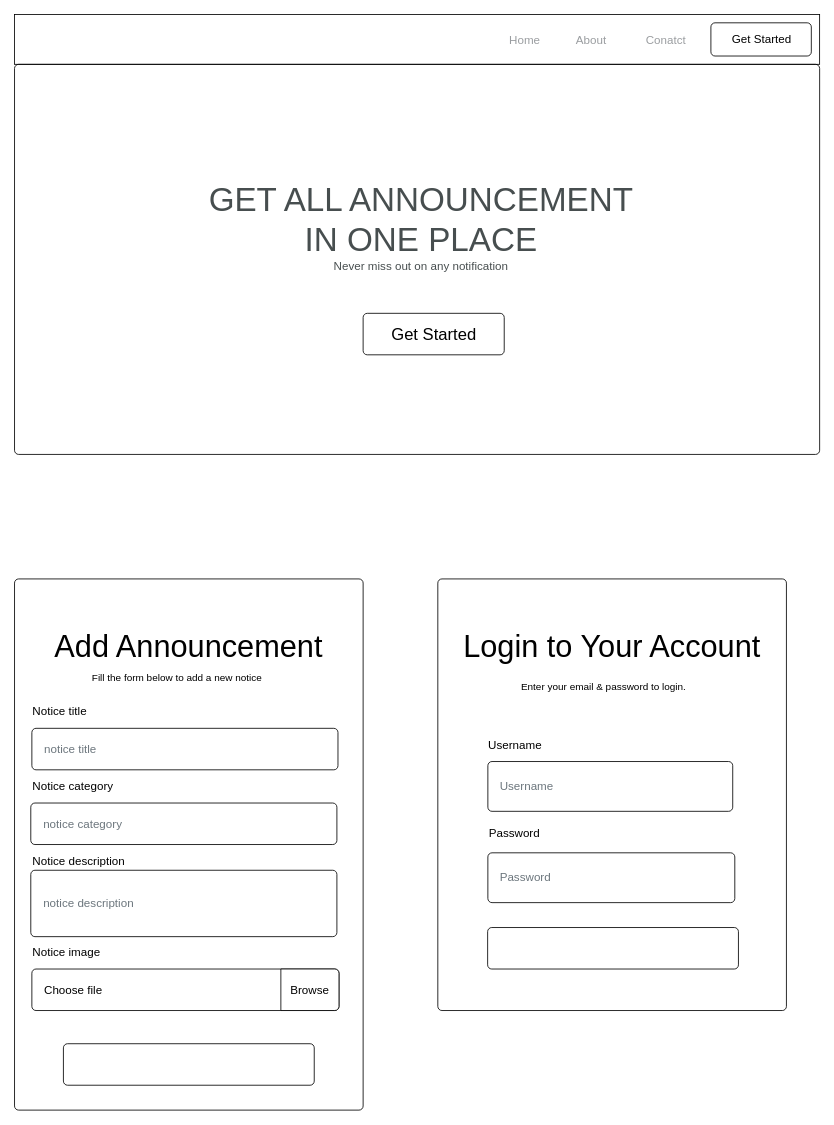
The diagram is 834 pixels wide and 1125 high, and some of its shapes have lost their labels. Here are the shapes that lost their labels. From the top down, the box of each, then its label:
(14, 14, 820, 64): ANNOUNCEMENT
(487, 927, 738, 969): Login
(63, 1043, 314, 1085): Save
